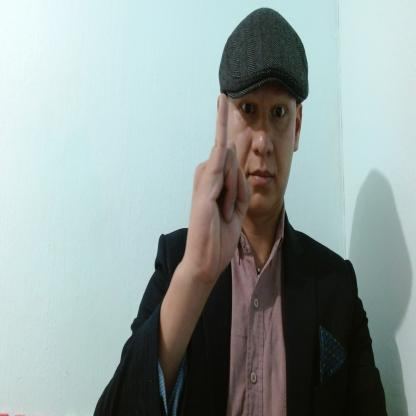I: (187, 92, 252, 272)
